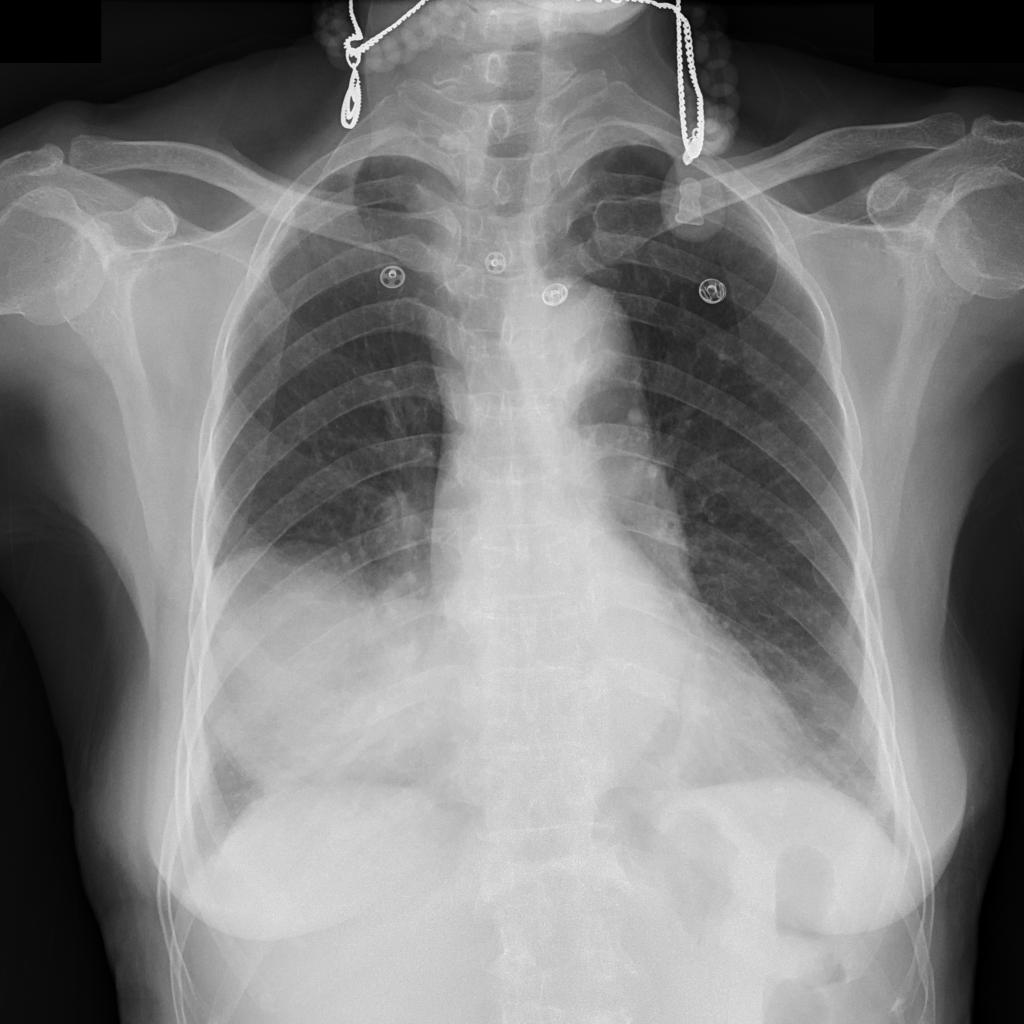Nodule: (197, 542, 417, 787)
